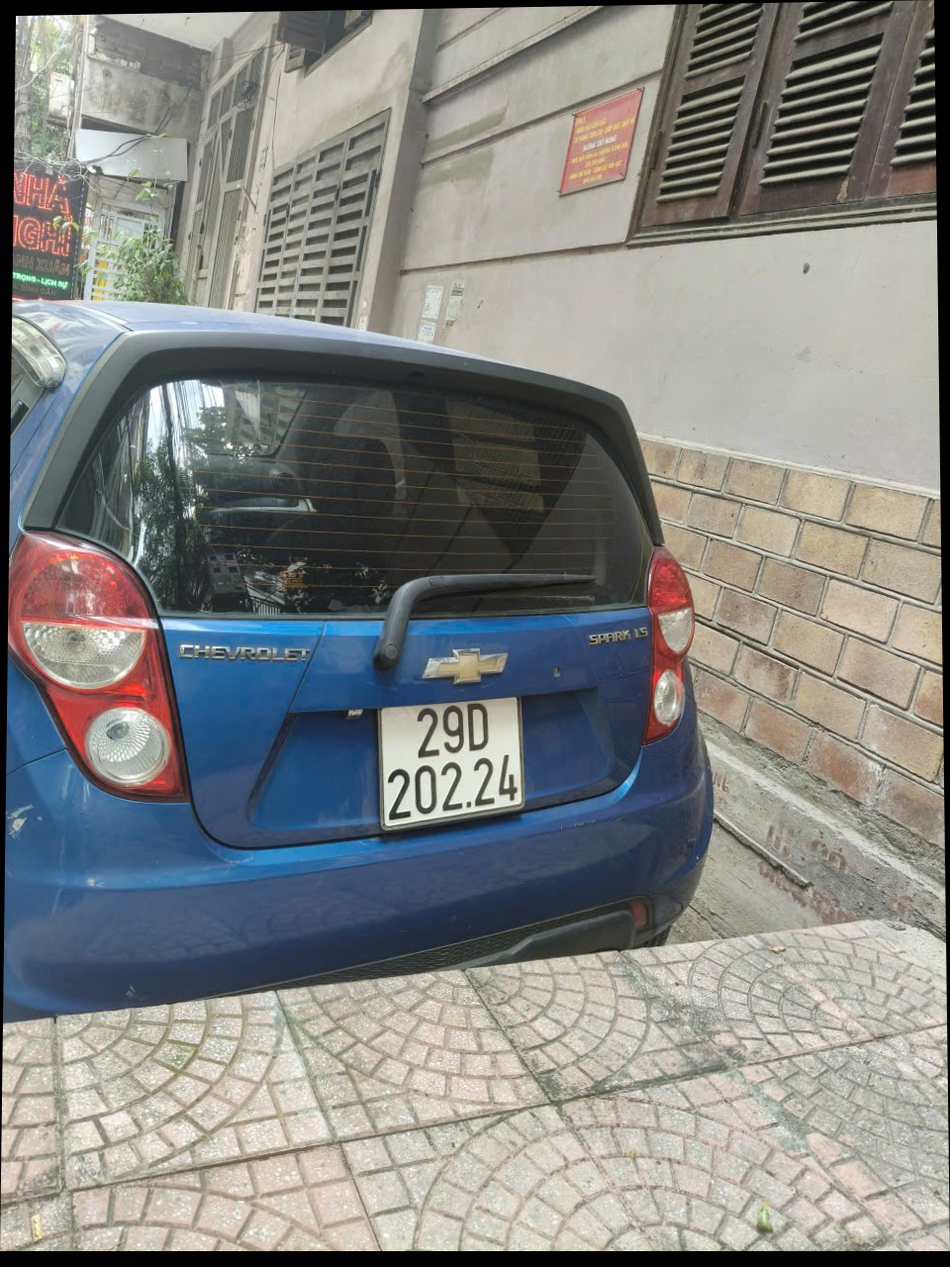plate: (375, 826, 529, 861)
